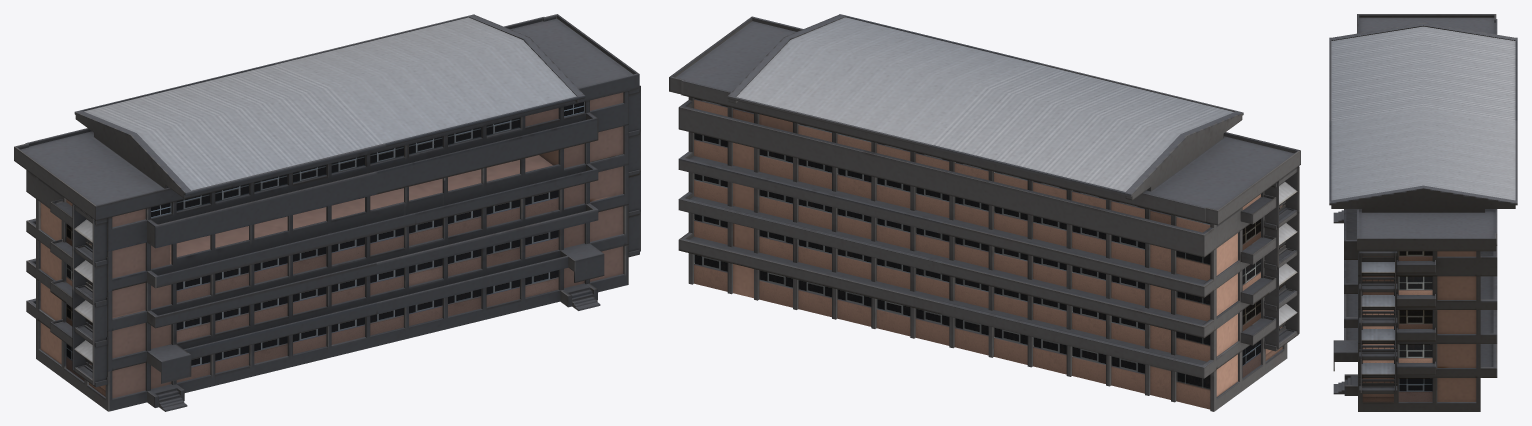
Rendered from BuildingA.glb.
The picture shows the model from 3 angles, left to right: view 1: azimuth 30°, elevation 25°; view 2: azimuth 150°, elevation 25°; view 3: azimuth 270°, elevation 25°; orthographic projection. The views are drawn at different scales.
Visible parts, largest first — view 1: BuildingA; view 2: BuildingA; view 3: BuildingA.
Boxes of the visible parts, left/top/right/bottom form: BuildingA: left=14, top=14, right=640, bottom=411; BuildingA: left=669, top=14, right=1300, bottom=411; BuildingA: left=1329, top=14, right=1517, bottom=411.
Size of the model in its own units: 33.92 by 13.85 by 11.92.
4 materials, 4 textured.
